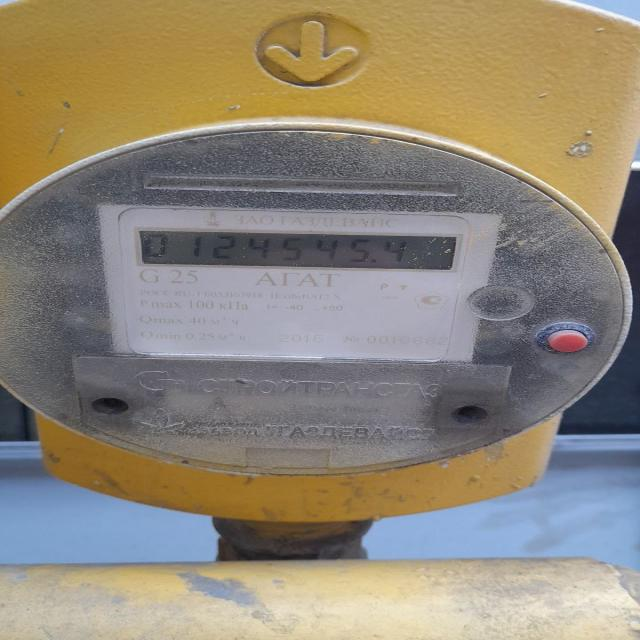.: (368, 258, 380, 264)
0: (137, 234, 173, 262)
1: (191, 232, 206, 261)
2: (212, 234, 239, 263)
4: (383, 239, 408, 263), (314, 238, 340, 261), (248, 236, 270, 260)
5: (280, 237, 304, 261), (348, 238, 371, 262)
screen: (137, 230, 455, 270)
